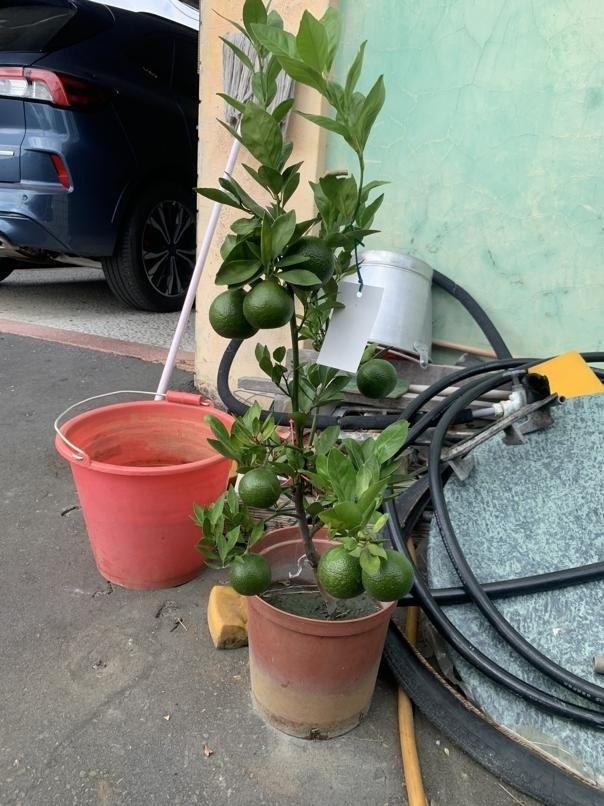Tangerine: (363, 546, 415, 604), (317, 541, 365, 601), (209, 288, 260, 342), (245, 276, 295, 331), (238, 463, 282, 510), (230, 552, 273, 597), (356, 352, 398, 397)
